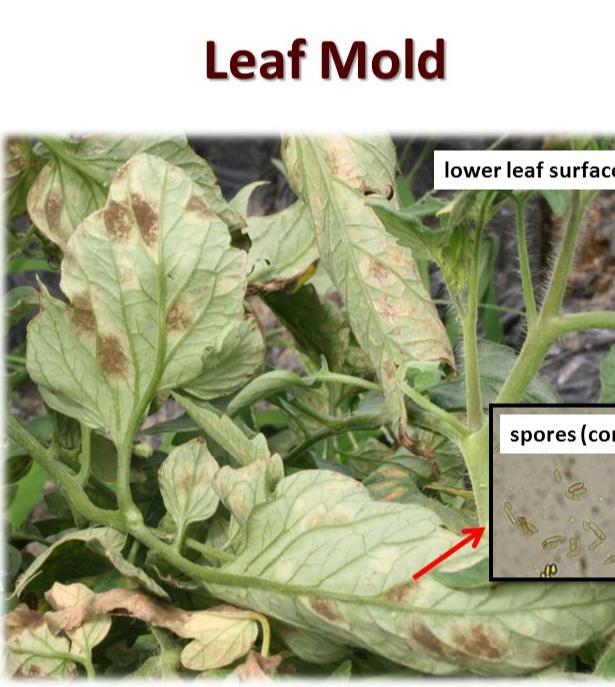Tomato mold leaf: (208, 453, 615, 670), (24, 148, 253, 450), (263, 138, 453, 425), (148, 434, 226, 534)
